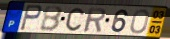6: (111, 8, 129, 34)
B: (39, 5, 64, 32)
C: (64, 7, 85, 32)
O: (129, 9, 150, 35)
P: (19, 4, 43, 32)
R: (83, 7, 107, 33)
